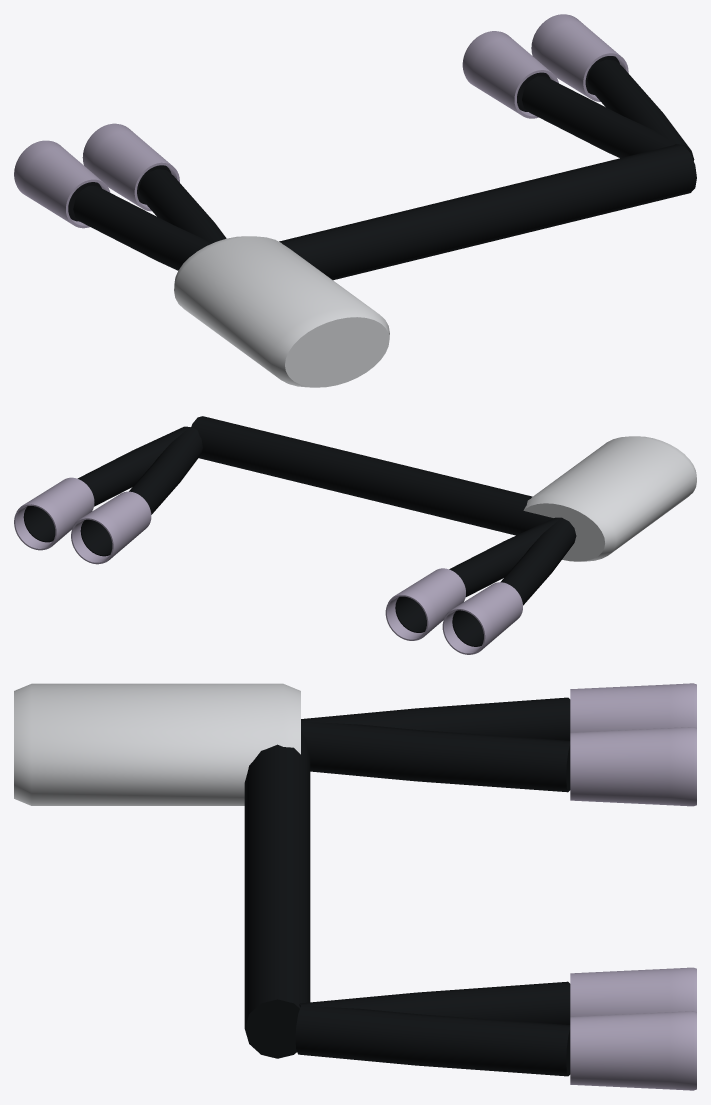
File: EX03_quad_centre_exit.glb
The picture shows the model from 3 angles, top to bottom: view 1: azimuth 30°, elevation 25°; view 2: azimuth 150°, elevation 25°; view 3: azimuth 270°, elevation 25°; orthographic projection. The views are drawn at different scales.
Parts seen in each view (by area): view 1: MOD_ND_EX03_silencer, MOD_ND_EX03_crossover, MOD_ND_EX03_branch_2, MOD_ND_EX03_branch_0, MOD_ND_EX03_tip_0, MOD_ND_EX03_tip_2, MOD_ND_EX03_tip_1, MOD_ND_EX03_tip_3, MOD_ND_EX03_branch_3, MOD_ND_EX03_branch_1; view 2: MOD_ND_EX03_crossover, MOD_ND_EX03_silencer, MOD_ND_EX03_tip_0, MOD_ND_EX03_tip_2, MOD_ND_EX03_tip_3, MOD_ND_EX03_tip_1, MOD_ND_EX03_branch_0, MOD_ND_EX03_branch_2, MOD_ND_EX03_branch_1, MOD_ND_EX03_branch_3, MOD_ND_EX03_bore_2, MOD_ND_EX03_bore_0 (+2 smaller); view 3: MOD_ND_EX03_silencer, MOD_ND_EX03_crossover, MOD_ND_EX03_branch_3, MOD_ND_EX03_branch_1, MOD_ND_EX03_tip_3, MOD_ND_EX03_tip_1, MOD_ND_EX03_branch_2, MOD_ND_EX03_branch_0, MOD_ND_EX03_tip_0, MOD_ND_EX03_tip_2.
Boxes of the visible parts, <box> form: MOD_ND_EX03_silencer: <box>174,236,389,387</box>; MOD_ND_EX03_crossover: <box>279,144,696,280</box>; MOD_ND_EX03_branch_2: <box>522,76,675,158</box>; MOD_ND_EX03_branch_0: <box>73,185,210,270</box>; MOD_ND_EX03_tip_0: <box>14,140,110,228</box>; MOD_ND_EX03_tip_2: <box>462,31,558,118</box>; MOD_ND_EX03_tip_1: <box>82,123,179,211</box>; MOD_ND_EX03_tip_3: <box>531,14,628,101</box>; MOD_ND_EX03_branch_3: <box>587,59,694,160</box>; MOD_ND_EX03_branch_1: <box>138,169,226,243</box>; MOD_ND_EX03_crossover: <box>191,416,553,535</box>; MOD_ND_EX03_silencer: <box>523,436,696,561</box>; MOD_ND_EX03_tip_0: <box>442,582,522,654</box>; MOD_ND_EX03_tip_2: <box>71,491,151,564</box>; MOD_ND_EX03_tip_3: <box>14,477,94,550</box>; MOD_ND_EX03_tip_1: <box>385,568,465,640</box>; MOD_ND_EX03_branch_0: <box>500,518,576,605</box>; MOD_ND_EX03_branch_2: <box>129,427,202,514</box>; MOD_ND_EX03_branch_1: <box>449,517,561,596</box>; MOD_ND_EX03_branch_3: <box>77,426,189,506</box>; MOD_ND_EX03_bore_2: <box>80,519,112,556</box>; MOD_ND_EX03_bore_0: <box>452,610,483,646</box>; MOD_ND_EX03_silencer: <box>14,683,300,805</box>; MOD_ND_EX03_crossover: <box>244,732,310,1058</box>; MOD_ND_EX03_branch_3: <box>295,1005,570,1076</box>; MOD_ND_EX03_branch_1: <box>301,721,570,792</box>; MOD_ND_EX03_tip_3: <box>570,1011,696,1090</box>; MOD_ND_EX03_tip_1: <box>570,727,696,806</box>; MOD_ND_EX03_branch_2: <box>299,981,570,1024</box>; MOD_ND_EX03_branch_0: <box>301,697,570,740</box>; MOD_ND_EX03_tip_0: <box>570,683,696,732</box>; MOD_ND_EX03_tip_2: <box>570,967,696,1016</box>.
Bounding box in the file's own units: 0.73 × 0.0912 × 0.583.
